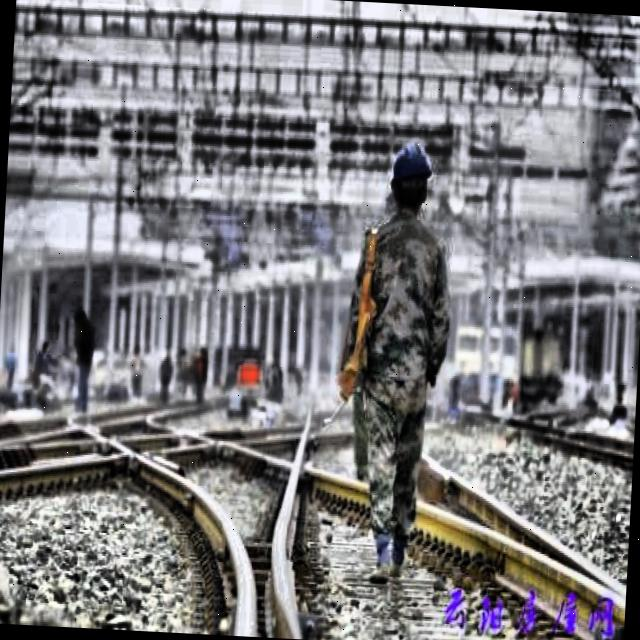helmet: (387, 138, 434, 213)
